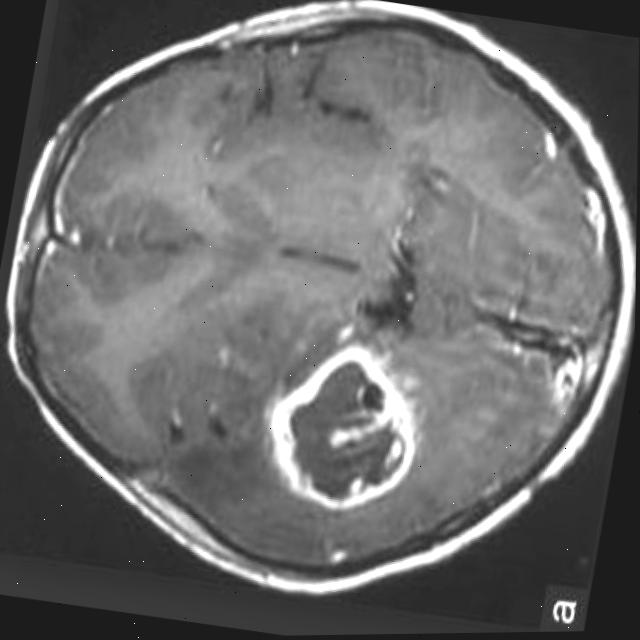Meningioma: (255, 330, 433, 526)
